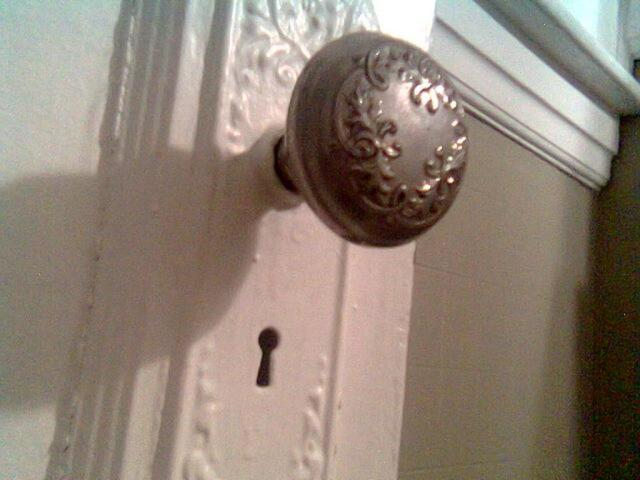Door-handle: (276, 27, 469, 247)
